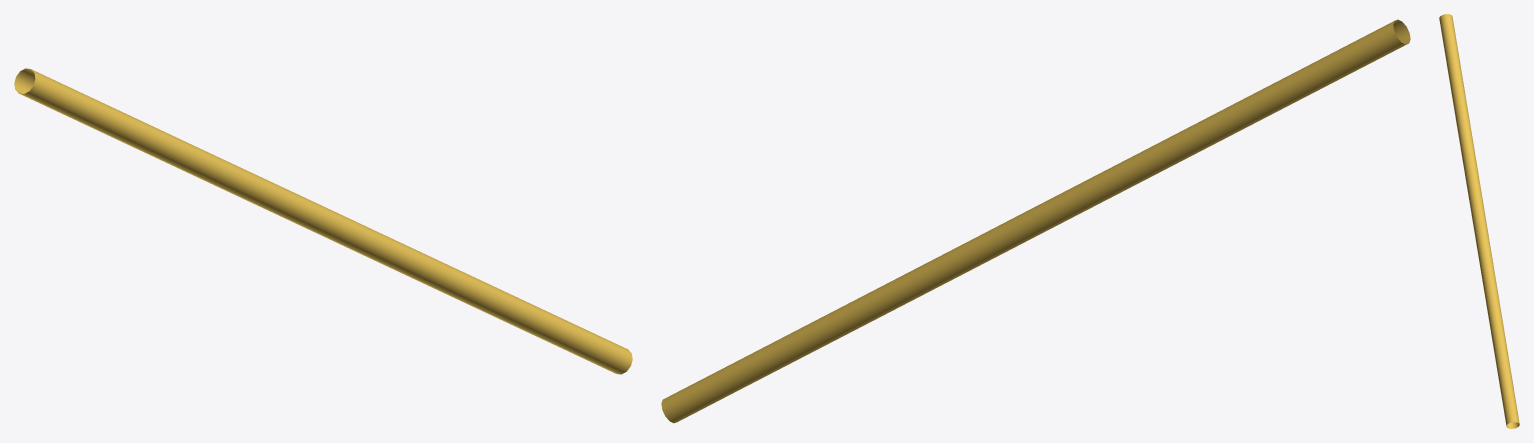
Rendered from Inferior_trunk_brachial_plexus_left.glb.
3 views of the same model, side by side, from view 1: azimuth 30°, elevation 25°; view 2: azimuth 150°, elevation 25°; view 3: azimuth 270°, elevation 25° (orthographic). The views are drawn at different scales.
Visible parts, largest first — view 1: Inferior_trunk_of_brachial_plexus.l_BezierCurve.522; view 2: Inferior_trunk_of_brachial_plexus.l_BezierCurve.522; view 3: Inferior_trunk_of_brachial_plexus.l_BezierCurve.522.
Boxes of the visible parts, left/top/right/bottom form: Inferior_trunk_of_brachial_plexus.l_BezierCurve.522: left=14, top=68, right=632, bottom=374; Inferior_trunk_of_brachial_plexus.l_BezierCurve.522: left=661, top=19, right=1410, bottom=423; Inferior_trunk_of_brachial_plexus.l_BezierCurve.522: left=1439, top=14, right=1519, bottom=428.
Size of the model in its own units: 0.0287 by 0.0207 by 0.00591.
